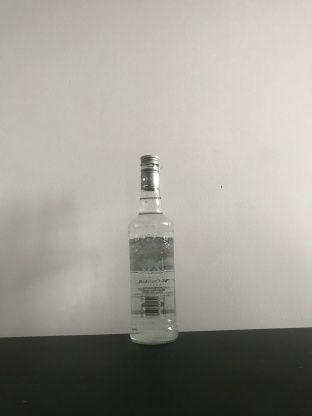nakretka: (138, 153, 161, 191)
